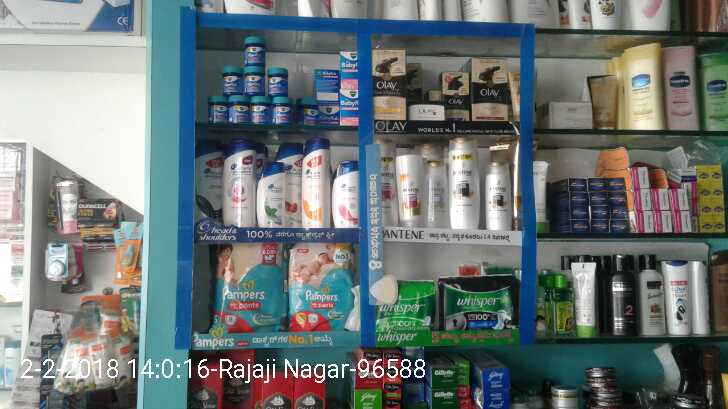beauty: (444, 136, 480, 231), (222, 137, 255, 229), (301, 136, 329, 227), (371, 51, 408, 119), (193, 141, 222, 225), (480, 159, 511, 230), (475, 56, 508, 122), (398, 150, 425, 225), (256, 158, 284, 229), (330, 161, 357, 231), (426, 151, 450, 228), (440, 72, 469, 121), (381, 138, 397, 226), (427, 389, 456, 409), (430, 367, 457, 386)
pharmacy: (213, 242, 288, 332), (289, 239, 356, 331), (443, 272, 514, 331), (376, 279, 438, 331), (242, 29, 266, 66), (339, 48, 359, 88), (338, 91, 359, 128), (218, 67, 243, 97), (225, 96, 250, 125), (294, 93, 316, 124), (243, 67, 264, 97), (207, 95, 228, 124), (266, 67, 288, 93), (272, 98, 291, 125), (251, 95, 268, 124)
